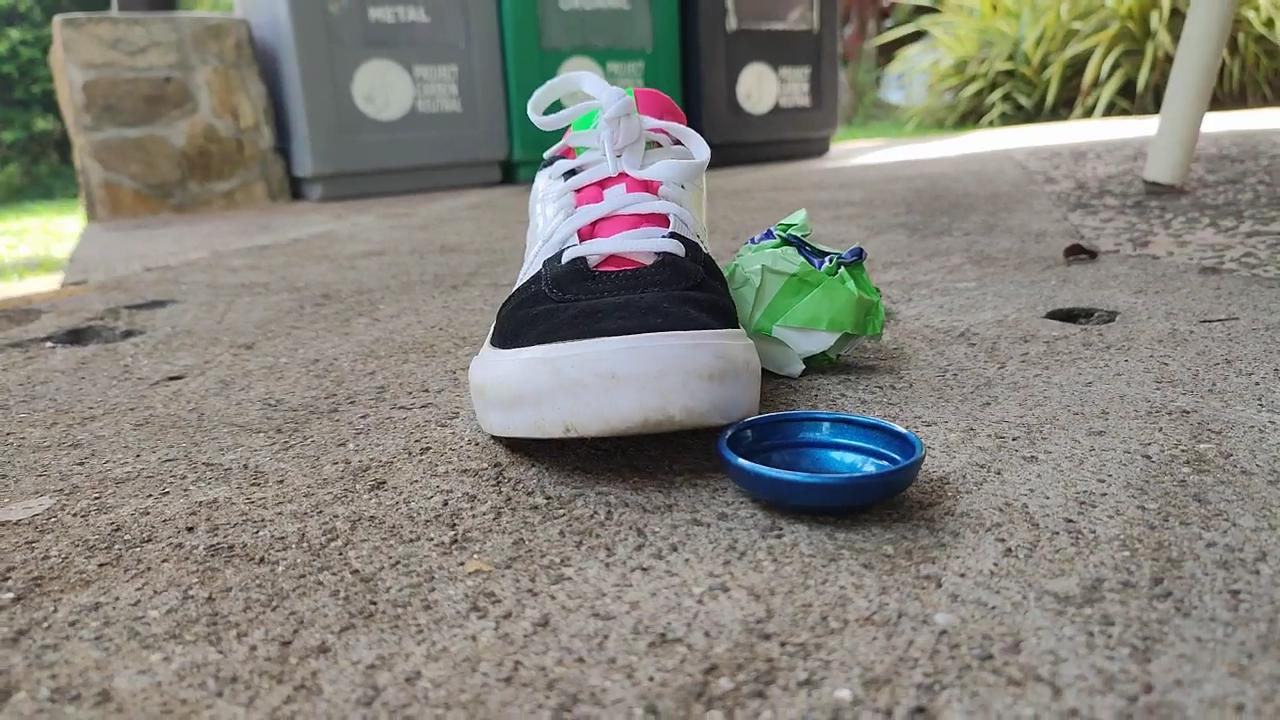Paper: (712, 191, 893, 383)
